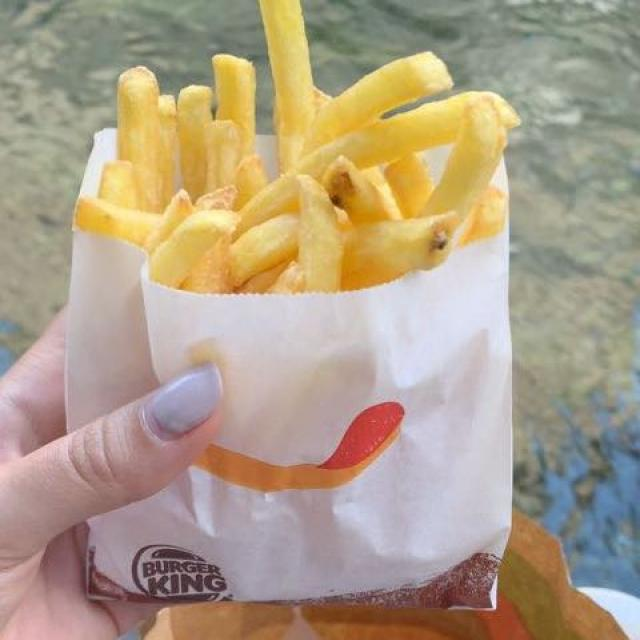chips-french-fries: (78, 5, 511, 295)
